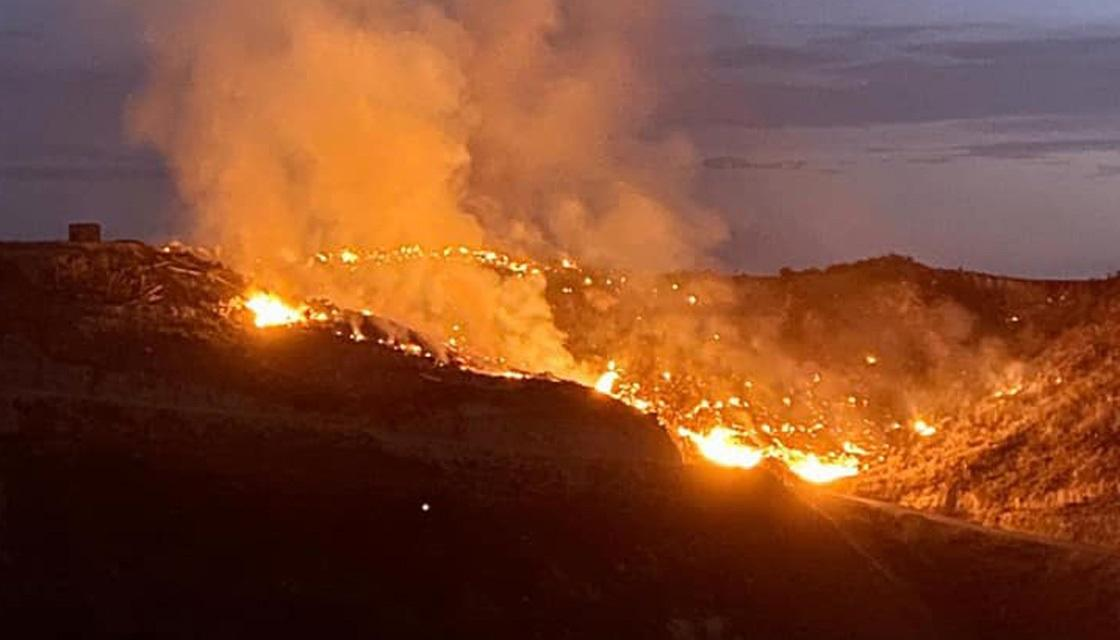Fire: (681, 398, 871, 487), (241, 292, 334, 333), (445, 245, 547, 278), (598, 369, 656, 414), (469, 365, 526, 382), (994, 384, 1024, 402), (396, 244, 428, 260), (340, 246, 359, 267), (915, 418, 937, 436), (345, 328, 367, 343), (403, 343, 424, 356), (560, 257, 581, 268), (317, 250, 328, 264), (865, 356, 875, 365)
